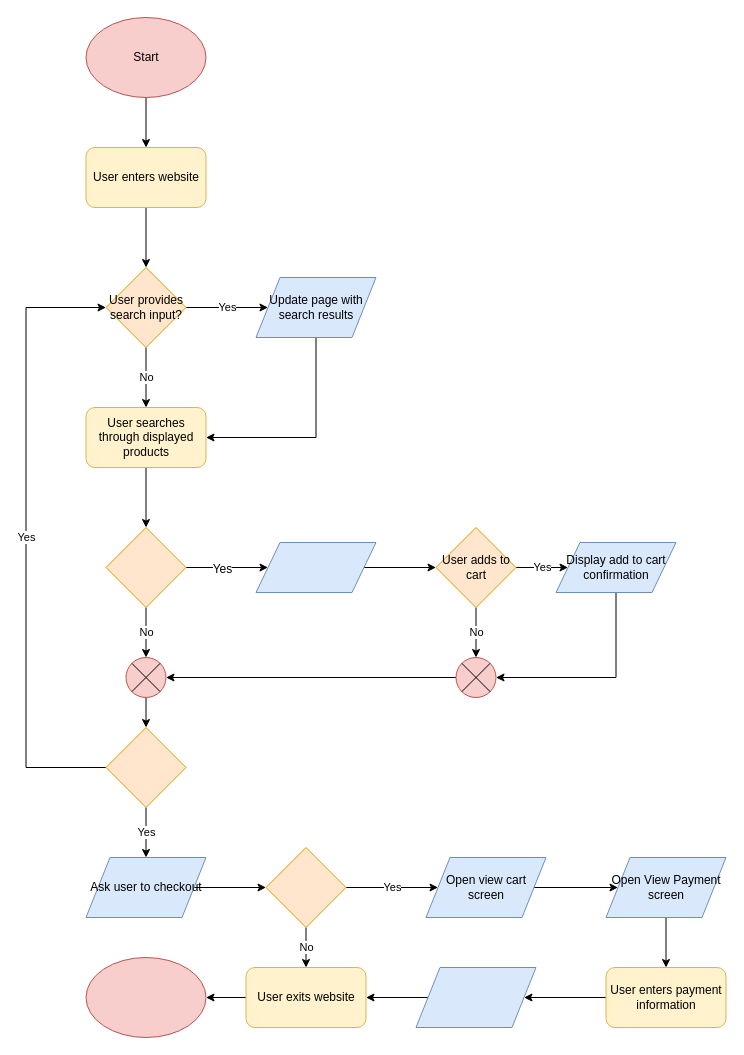
This 744x1055 diagram has some shape labels left out. The box of each missing label's shape, as (x1, y1, x2, y2) in pixels:
Ask user to continue shopping: (105, 726, 186, 808)
Ask user to view specific product: (105, 526, 186, 608)
Display order confirmation, send confirmation email: (415, 966, 536, 1028)
Exit: (85, 956, 206, 1038)
Open product webpage: (255, 542, 376, 592)
User wants to checkout?: (265, 846, 346, 928)
